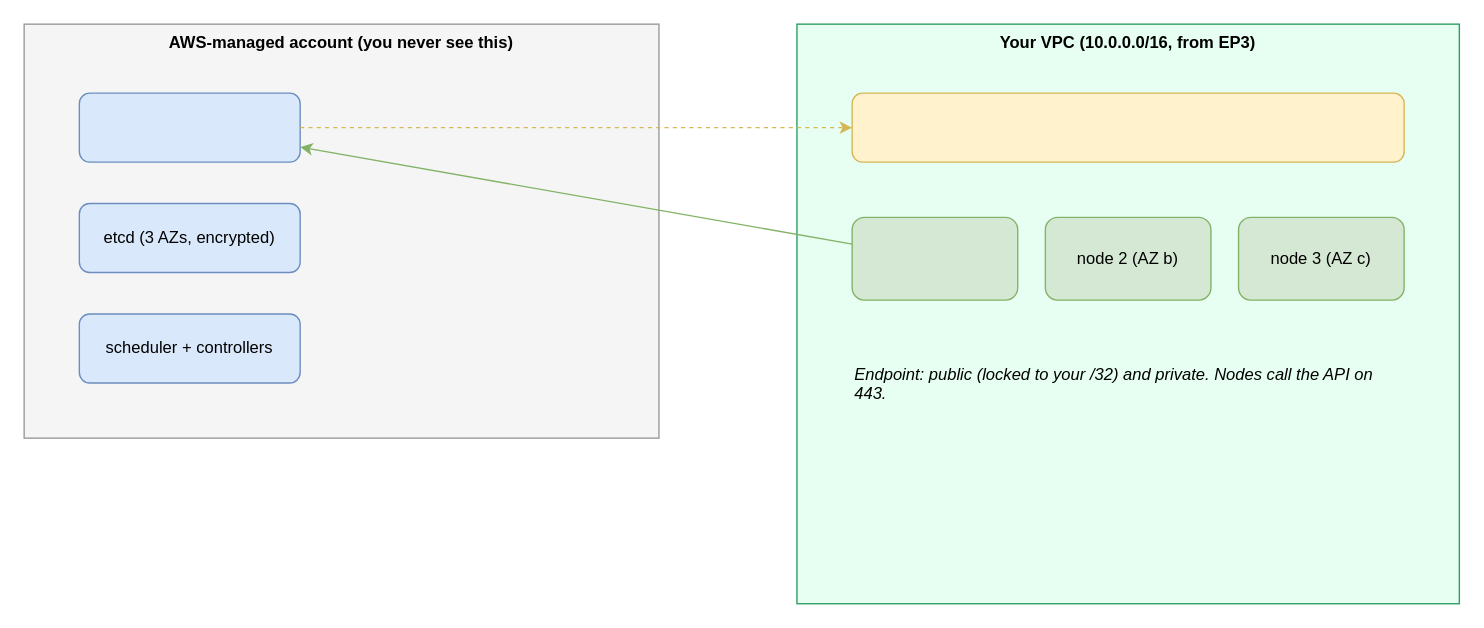
Image size: 1484x628. Some labels were removed from this diagram. The centre of each missing label's shape, as x and y in pixels:
control-plane ENIs (reach-in: exec, logs, webhooks): the point at 1127,127
kube-apiserver: the point at 189,127
node 1 (AZ a): the point at 934,258
